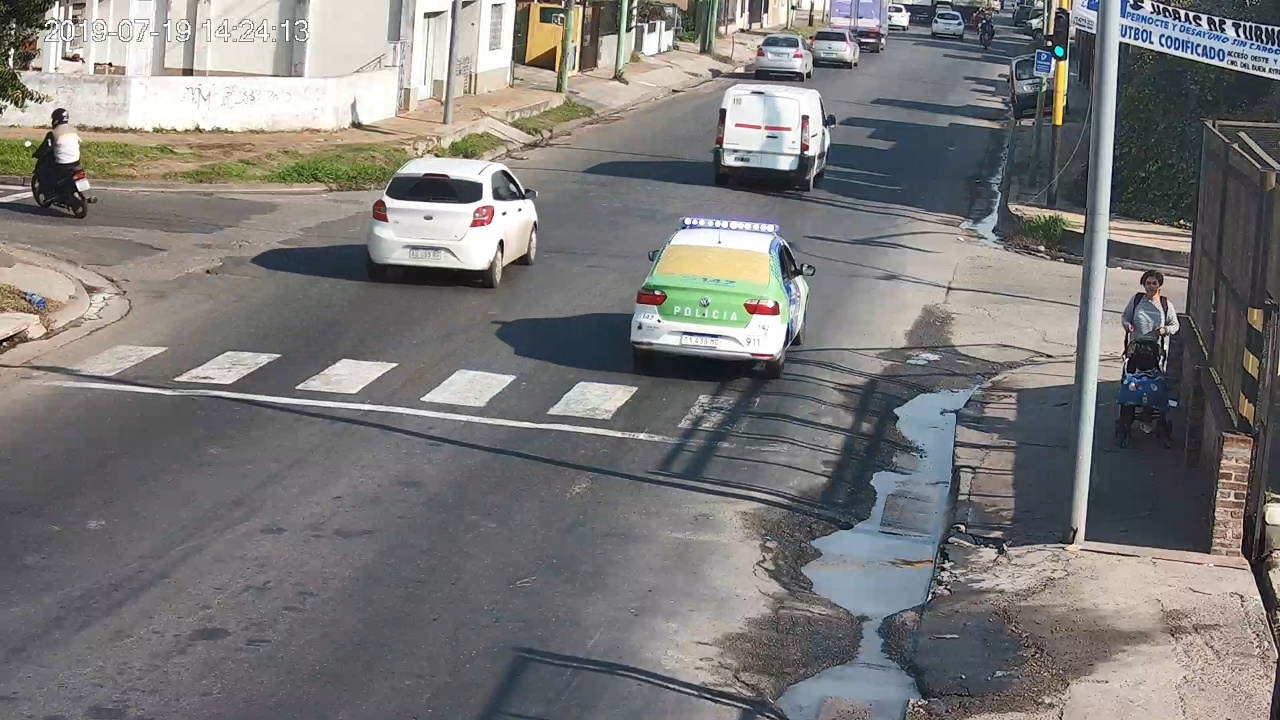car: (367, 157, 539, 288), (714, 84, 836, 192)
police car: (630, 218, 816, 380)
traffic light: (1054, 14, 1067, 60)
